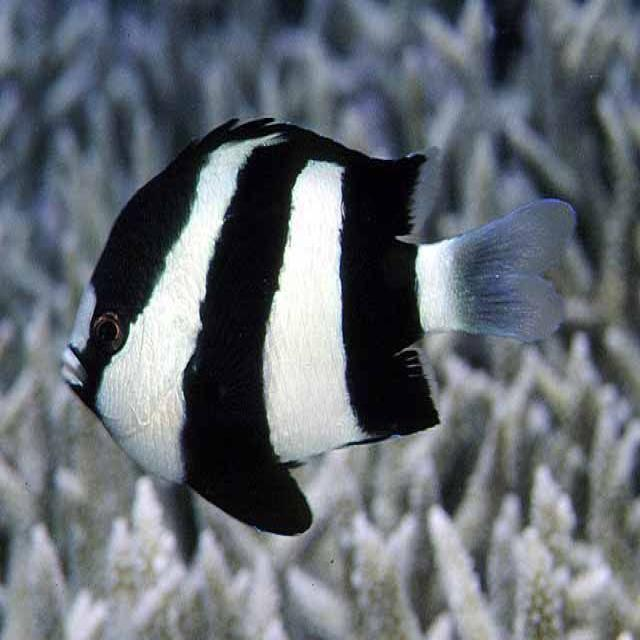ThreeStripedDamselfish: (63, 118, 577, 539)
